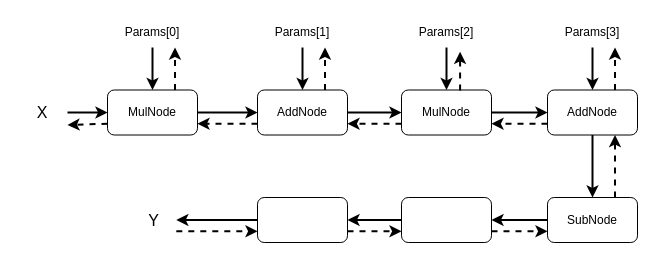
The diagram is 655 pixels wide and 260 high, and some of its shapes have lost their labels. Here are the shapes that lost their labels. From the top down, the centre of each, then its label:
At (x=302, y=219): "SumNode".
At (x=446, y=219): "SquareNode".
